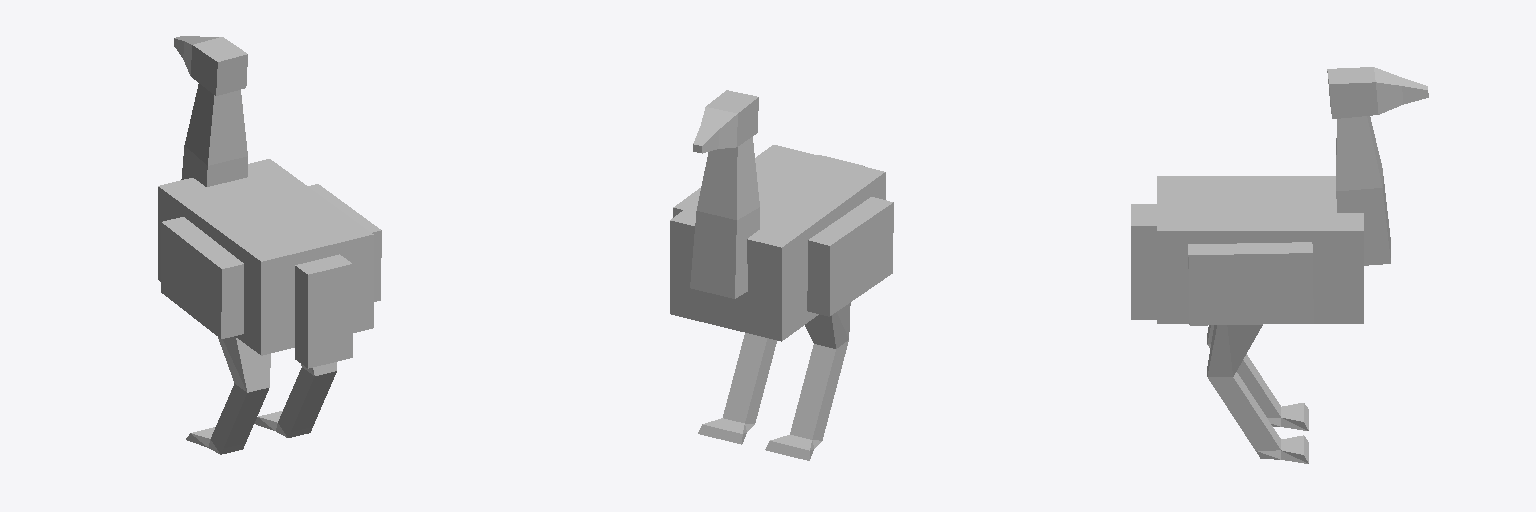
The model's file is Ostrich_000026.obj.
3 views of the same model, side by side, from view 1: azimuth 30°, elevation 25°; view 2: azimuth 150°, elevation 25°; view 3: azimuth 270°, elevation 25° (orthographic).
Parts seen in each view (by area): view 1: Cube_Cube.001; view 2: Cube_Cube.001; view 3: Cube_Cube.001.
Boxes of the visible parts, x1=… form: Cube_Cube.001: x1=158, y1=36, x2=381, y2=454; Cube_Cube.001: x1=670, y1=90, x2=893, y2=460; Cube_Cube.001: x1=1131, y1=67, x2=1428, y2=463.
Bounding box in the file's own units: 0.7129 × 1.54 × 1.15.